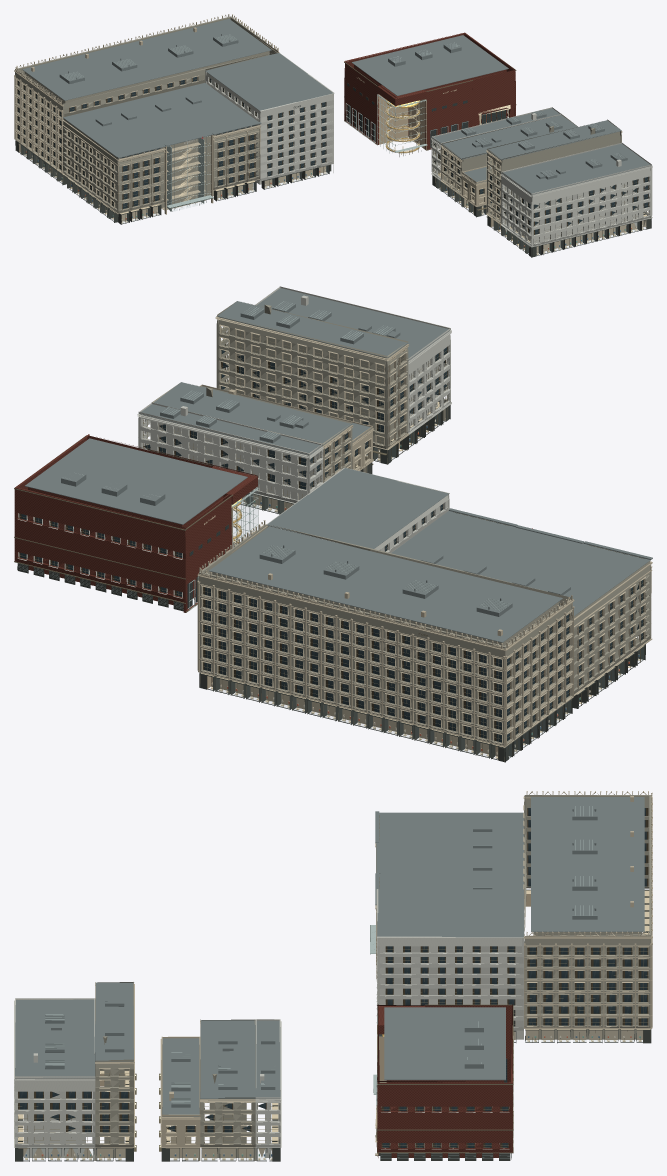
File: square-frontages-lod.glb
The picture shows the model from 3 angles, top to bottom: view 1: azimuth 30°, elevation 25°; view 2: azimuth 150°, elevation 25°; view 3: azimuth 270°, elevation 25°; orthographic projection. The views are drawn at different scales.
Visible parts, largest first — view 1: Macys original O Farrell block / Roof and service metal / di, Stockton boutique parcels / Magnin white marble / distant, Stockton boutique parcels / Roof and service metal / distant, Macys Geary / Roof and service metal / distant, Macys Geary / Macy limestone / distant, Neiman Marcus southeast / Neiman checkerboard red granite / , I Magnin marble corner / Magnin white marble / distant, Macys Geary / Carved warm limestone / distant, Neiman Marcus southeast / Roof and service metal / distant, Macys original O Farrell block / Macy limestone / distant, I Magnin marble corner / Roof and service metal / distant, Macys original O Farrell block / Carved warm limestone / dis (+22 smaller); view 2: Macys original O Farrell block / Carved warm limestone / dis, Macys original O Farrell block / Macy limestone / distant, Macys original O Farrell block / Roof and service metal / di, Neiman Marcus southeast / Neiman checkerboard red granite / , Stockton boutique parcels / Roof and service metal / distant, Stockton boutique parcels / Macy limestone / distant, Macys Geary / Roof and service metal / distant, Macys original O Farrell block / Recessed smoked glass / dis, Stockton boutique parcels / Magnin white marble / distant, Neiman Marcus southeast / Roof and service metal / distant, I Magnin marble corner / Roof and service metal / distant, Stockton boutique parcels / Carved warm limestone / distant (+18 smaller); view 3: Stockton boutique parcels / Roof and service metal / distant, Macys original O Farrell block / Roof and service metal / di, Macys Geary / Roof and service metal / distant, Neiman Marcus southeast / Neiman checkerboard red granite / , Macys original O Farrell block / Macy limestone / distant, Neiman Marcus southeast / Roof and service metal / distant, I Magnin marble corner / Magnin white marble / distant, Stockton boutique parcels / Magnin white marble / distant, I Magnin marble corner / Roof and service metal / distant, Macys original O Farrell block / Carved warm limestone / dis, Stockton boutique parcels / Macy limestone / distant, Macys original O Farrell block / Recessed smoked glass / dis (+16 smaller).
Part boxes in pixels (x1,y1,x2,y2): Macys original O Farrell block / Roof and service metal / di: [22, 19, 271, 100]; Stockton boutique parcels / Magnin white marble / distant: [431, 107, 652, 247]; Stockton boutique parcels / Roof and service metal / distant: [432, 108, 651, 194]; Macys Geary / Roof and service metal / distant: [63, 83, 261, 158]; Macys Geary / Macy limestone / distant: [63, 118, 259, 216]; Neiman Marcus southeast / Neiman checkerboard red granite / : [344, 32, 515, 149]; I Magnin marble corner / Magnin white marble / distant: [205, 53, 334, 184]; Macys Geary / Carved warm limestone / distant: [62, 120, 261, 214]; Neiman Marcus southeast / Roof and service metal / distant: [351, 35, 508, 95]; Macys original O Farrell block / Macy limestone / distant: [15, 16, 278, 172]; I Magnin marble corner / Roof and service metal / distant: [205, 53, 333, 110]; Macys original O Farrell block / Carved warm limestone / dis: [14, 14, 279, 174]; Macys original O Farrell block / Carved warm limestone / dis: [197, 520, 574, 746]; Macys original O Farrell block / Macy limestone / distant: [199, 524, 572, 755]; Macys original O Farrell block / Roof and service metal / di: [209, 526, 562, 642]; Neiman Marcus southeast / Neiman checkerboard red granite / : [14, 434, 257, 612]; Stockton boutique parcels / Roof and service metal / distant: [139, 288, 449, 455]; Stockton boutique parcels / Macy limestone / distant: [152, 301, 408, 481]; Macys Geary / Roof and service metal / distant: [391, 508, 652, 615]; Macys original O Farrell block / Recessed smoked glass / dis: [203, 587, 569, 742]; Stockton boutique parcels / Magnin white marble / distant: [137, 286, 451, 507]; Neiman Marcus southeast / Roof and service metal / distant: [18, 438, 247, 609]; I Magnin marble corner / Roof and service metal / distant: [267, 468, 448, 548]; Stockton boutique parcels / Carved warm limestone / distant: [199, 316, 409, 482]; Stockton boutique parcels / Roof and service metal / distant: [15, 982, 280, 1116]; Macys original O Farrell block / Roof and service metal / di: [531, 797, 644, 931]; Macys Geary / Roof and service metal / distant: [375, 811, 523, 905]; Neiman Marcus southeast / Neiman checkerboard red granite / : [377, 1004, 512, 1157]; Macys original O Farrell block / Macy limestone / distant: [524, 795, 651, 1039]; Neiman Marcus southeast / Roof and service metal / distant: [381, 1007, 511, 1158]; I Magnin marble corner / Magnin white marble / distant: [376, 889, 523, 1039]; Stockton boutique parcels / Magnin white marble / distant: [14, 998, 281, 1160]; I Magnin marble corner / Roof and service metal / distant: [377, 889, 523, 937]; Macys original O Farrell block / Carved warm limestone / dis: [523, 791, 652, 1028]; Stockton boutique parcels / Macy limestone / distant: [95, 982, 255, 1160]; Macys original O Farrell block / Recessed smoked glass / dis: [527, 808, 648, 1025].
Bounding box in the file's own units: 222 × 46.43 × 231.
Materials: 22 (5 with a texture image).
